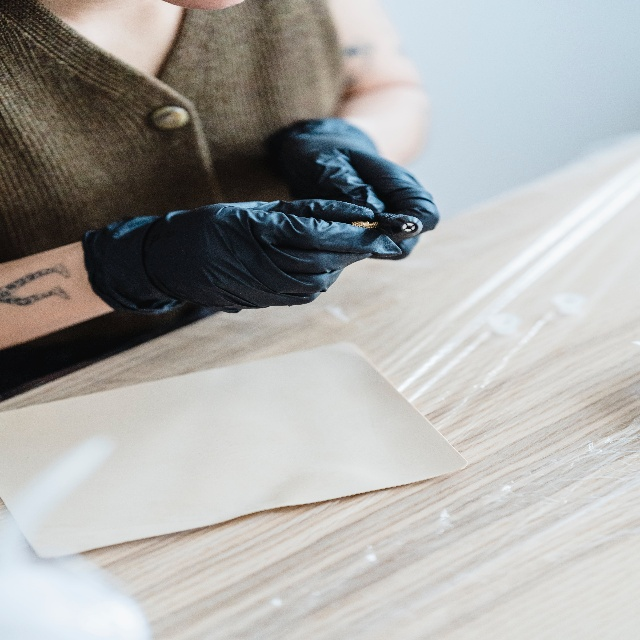Guantes: (139, 197, 395, 312), (269, 113, 435, 244)
